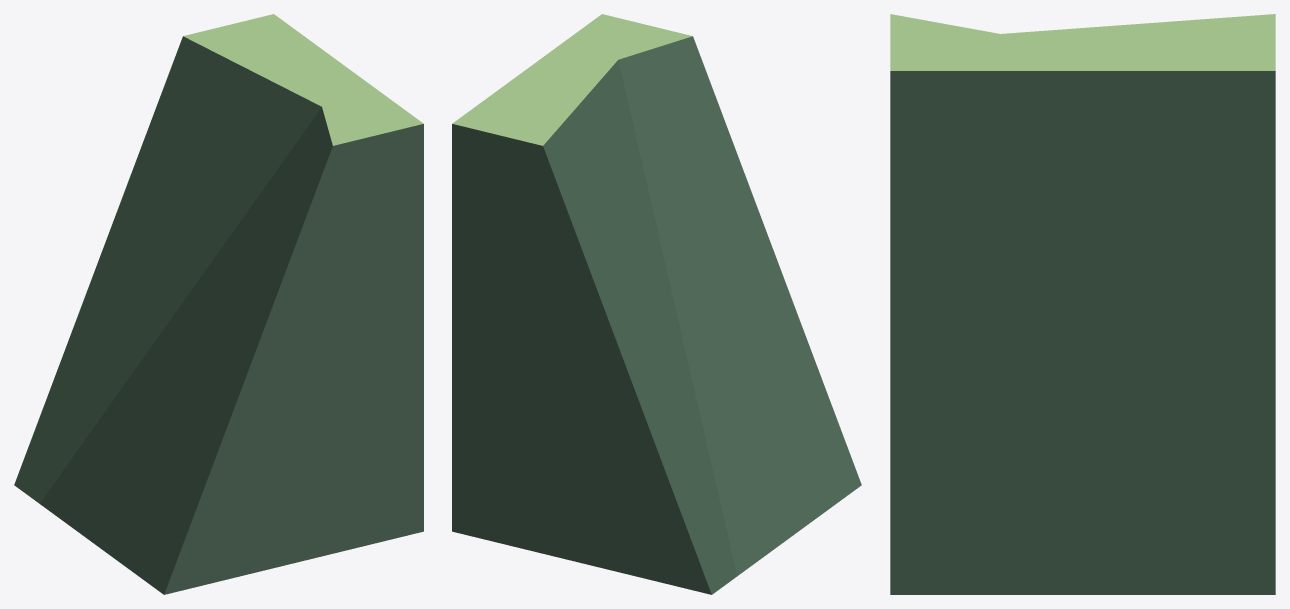
Rendered from GroundEdge02.fbx.
The picture shows the model from 3 angles, left to right: view 1: azimuth 30°, elevation 25°; view 2: azimuth 150°, elevation 25°; view 3: azimuth 270°, elevation 25°; orthographic projection. The views are drawn at different scales.
Parts seen in each view (by area): view 1: Cube.008; view 2: Cube.008; view 3: Cube.008.
Part boxes in pixels (x1,y1,x2,y2): Cube.008: (14,14,423,594); Cube.008: (452,14,861,594); Cube.008: (890,14,1275,594).
Bounding box in the file's own units: 100 × 150 × 100.
